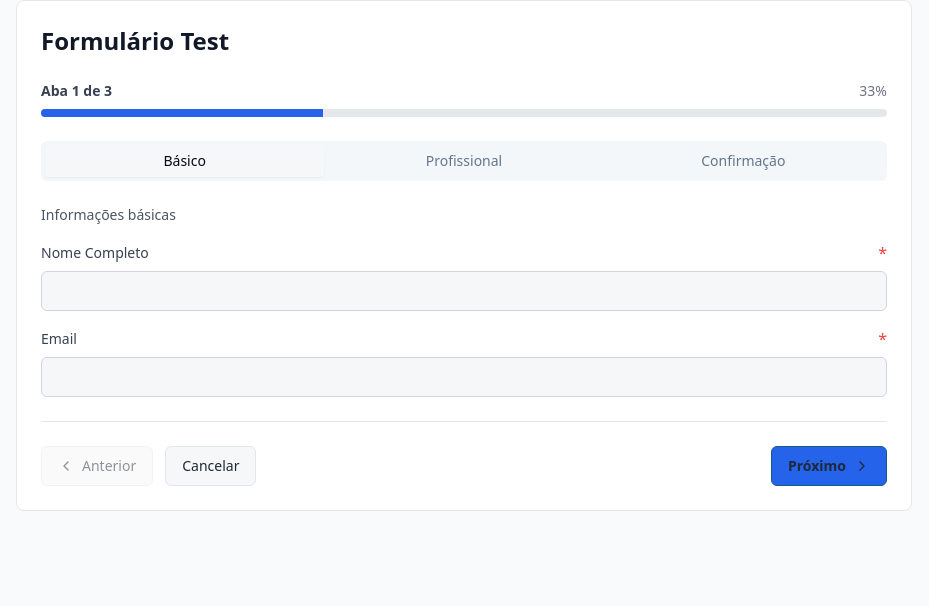
Scenario: TabbedForm - Integração › valida aba antes de avançar
The image size is (929, 606).
Tentar avançar sem preencher
Click the button "Próximo".
click(829, 466)  # box 771,446 -> 887,486
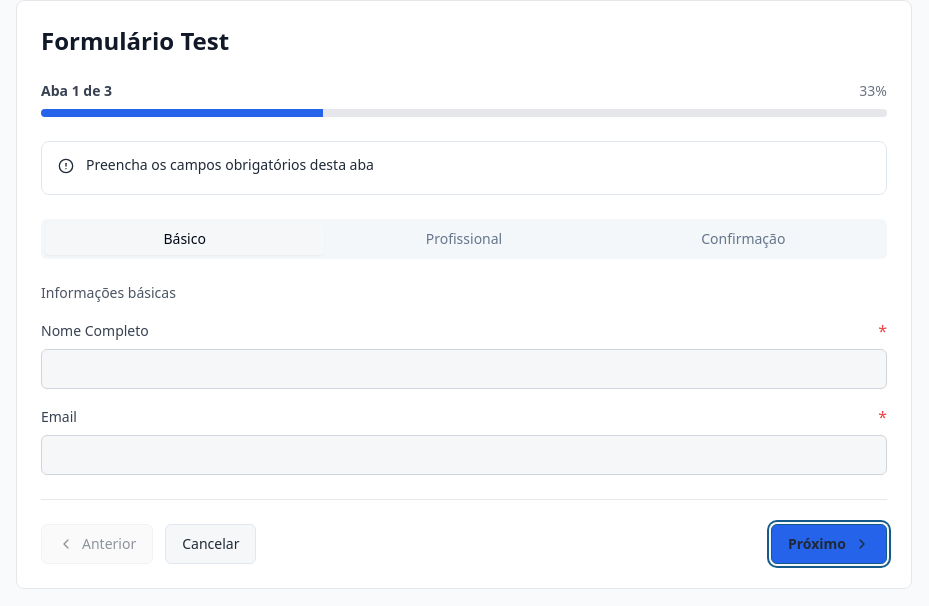
Expected: the field labelled "Nome Completo" is shown, 41,349 -> 887,389
Now the text "Preencha os campos obrigatórios desta aba" is shown, box 86,155 -> 374,174
